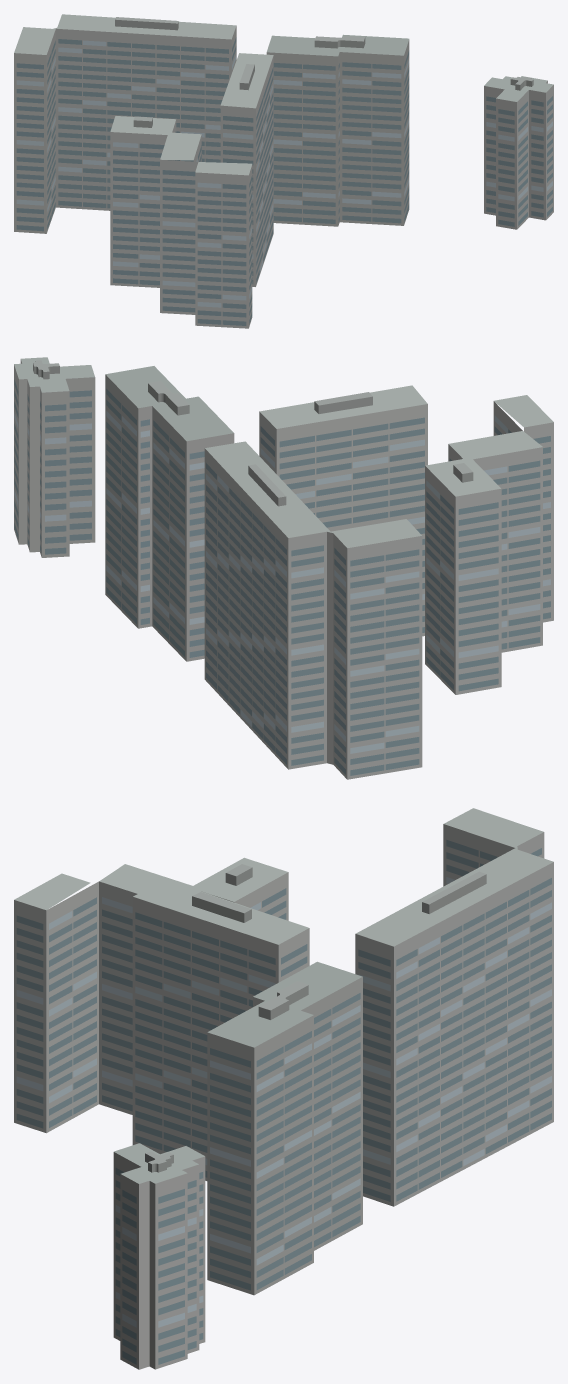
Rendered from apt-a12187904.glb.
3 views of the same model, one above another, from view 1: azimuth 30°, elevation 25°; view 2: azimuth 150°, elevation 25°; view 3: azimuth 270°, elevation 25° (orthographic). The views are drawn at different scales.
Parts seen in each view (by area): view 1: apt-a12187904; view 2: apt-a12187904; view 3: apt-a12187904.
Boxes of the visible parts, bbox=[...] form: apt-a12187904: bbox=[14, 14, 553, 328]; apt-a12187904: bbox=[14, 357, 553, 779]; apt-a12187904: bbox=[14, 808, 553, 1369].
Size of the model in its own units: 159 by 66.45 by 121.
